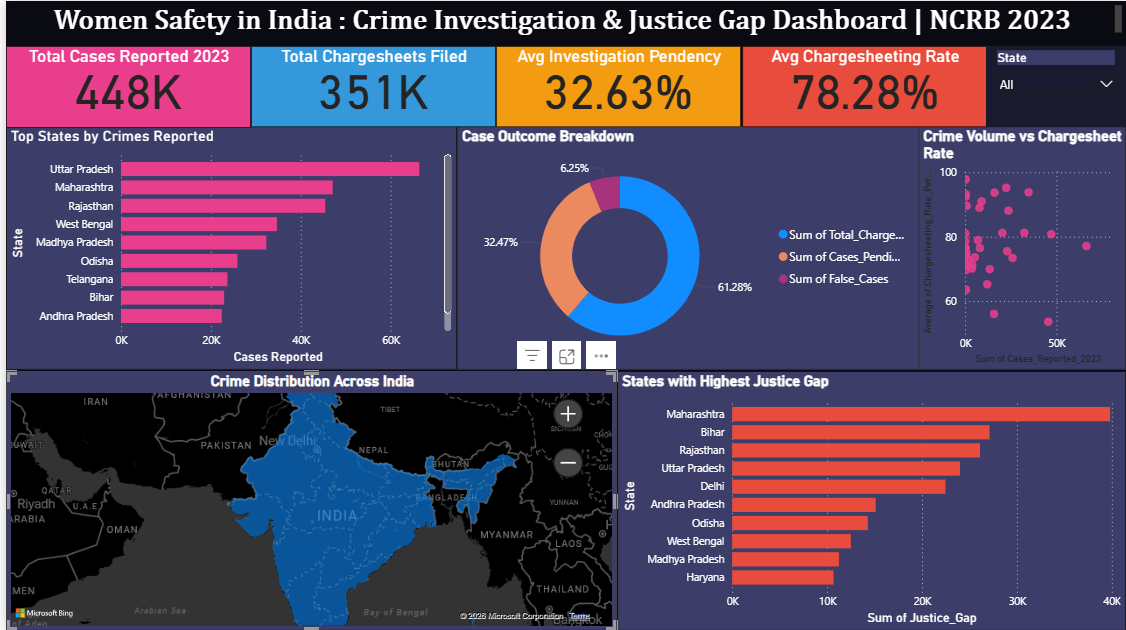

Layout of this report page (visuals, bound fields, positions):
{"tool":"powerbi","page":{"name":"Page 1","canvas":[1280,720],"ordinal":0},"visuals":[{"type":"card","title":"Total Cases Reported 2023","fields":{"Values":["Sum(Women_Safety_NCRB_2023_Clean.Cases_Reported_2023)"]},"box":[0,52.6,280,93.8],"z":0,"group":"g1"},{"type":"clusteredBarChart","title":"Top States by Crimes Reported","fields":{"Category":["Women_Safety_NCRB_2023_Clean.State"],"Y":["Sum(Women_Safety_NCRB_2023_Clean.Cases_Reported_2023)"]},"box":[0,142.3,515.3,278.5],"z":0},{"type":"card","title":"Total Chargesheets Filed","fields":{"Values":["Sum(Women_Safety_NCRB_2023_Clean.Total_Chargesheets)"]},"box":[280,52,280,93],"z":1000,"group":"g1"},{"type":"filledMap","title":"Crime Distribution Across India","fields":{"Category":["Women_Safety_NCRB_2023_Clean.State"]},"box":[0,423.3,698.8,297],"z":1000},{"type":"card","title":"Avg Chargesheeting Rate","fields":{"Values":["Women_Safety_NCRB_2023_Clean.Avg Chargesheeting Rate %"]},"box":[841.3,52,280,93],"z":2000,"group":"g1"},{"type":"donutChart","title":"Case Outcome Breakdown","fields":{"Y":["Sum(Women_Safety_NCRB_2023_Clean.Total_Chargesheets)","Sum(Women_Safety_NCRB_2023_Clean.Cases_Pending_Previous_Year)","Sum(Women_Safety_NCRB_2023_Clean.False_Cases)"]},"box":[515.3,142.3,527.6,278.5],"z":2000},{"type":"card","title":"Avg Investigation Pendency","fields":{"Values":["Women_Safety_NCRB_2023_Clean.Avg Pendency %"]},"box":[560.7,52,280,93],"z":3000,"group":"g1"},{"type":"barChart","title":"States with Highest Justice Gap","fields":{"Category":["Women_Safety_NCRB_2023_Clean.State"],"Y":["Sum(Women_Safety_NCRB_2023_Clean.Justice_Gap)"]},"box":[698.2,423.1,581.6,296.9],"z":3000},{"type":"scatterChart","title":"Crime Volume vs Chargesheet Rate","fields":{"X":["Sum(Women_Safety_NCRB_2023_Clean.Cases_Reported_2023)"],"Y":["Avg(Women_Safety_NCRB_2023_Clean.Chargesheeting_Rate_Percent)"],"Category":["Women_Safety_NCRB_2023_Clean.State"]},"box":[1043,142.3,236.8,278],"z":4000},{"type":"textbox","box":[0,0,1280,51.2],"z":5000},{"type":"group","id":"g1","title":"Group 1","box":[0,52,1121.3,94.4],"z":6000},{"type":"slicer","fields":{"Values":["Women_Safety_NCRB_2023_Clean.State"]},"box":[1120,51.2,160,92.5],"z":7000}]}

Visuals, with their boxes in screenshot pixels (x1, y1, x2, y2), scaled from the page's 1280x720 canvas onto the 1126x630 screenshot:
"Total Cases Reported 2023" card: [0,46,246,128]
"Top States by Crimes Reported" clusteredBarChart: [0,125,453,368]
"Total Chargesheets Filed" card: [246,46,493,127]
"Crime Distribution Across India" filledMap: [0,370,615,629]
"Avg Chargesheeting Rate" card: [740,46,986,127]
"Case Outcome Breakdown" donutChart: [453,125,917,368]
"Avg Investigation Pendency" card: [493,46,740,127]
"States with Highest Justice Gap" barChart: [614,370,1125,629]
"Crime Volume vs Chargesheet Rate" scatterChart: [918,125,1125,368]
textbox: [0,0,1125,45]
"Group 1" group: [0,46,986,128]
slicer - Women_Safety_NCRB_2023_Clean.State: [985,45,1125,126]
